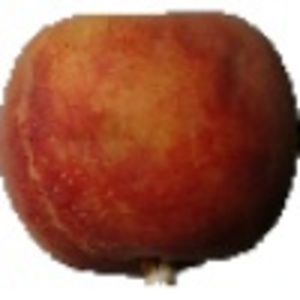pêssego: (1, 7, 300, 290)
